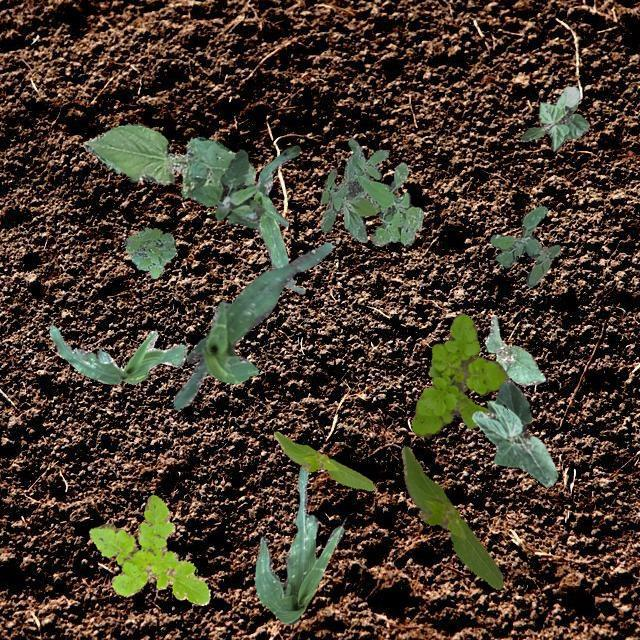crop: (172, 242, 332, 408), (400, 444, 502, 588), (254, 464, 342, 624), (83, 122, 255, 196), (471, 380, 556, 486), (48, 324, 186, 384), (252, 144, 304, 292), (272, 431, 373, 489), (520, 86, 588, 150), (484, 314, 544, 384)
weed: (89, 494, 210, 604), (411, 313, 508, 437), (320, 136, 388, 242), (190, 148, 264, 228), (488, 205, 560, 286), (357, 162, 422, 245), (124, 226, 174, 278)
